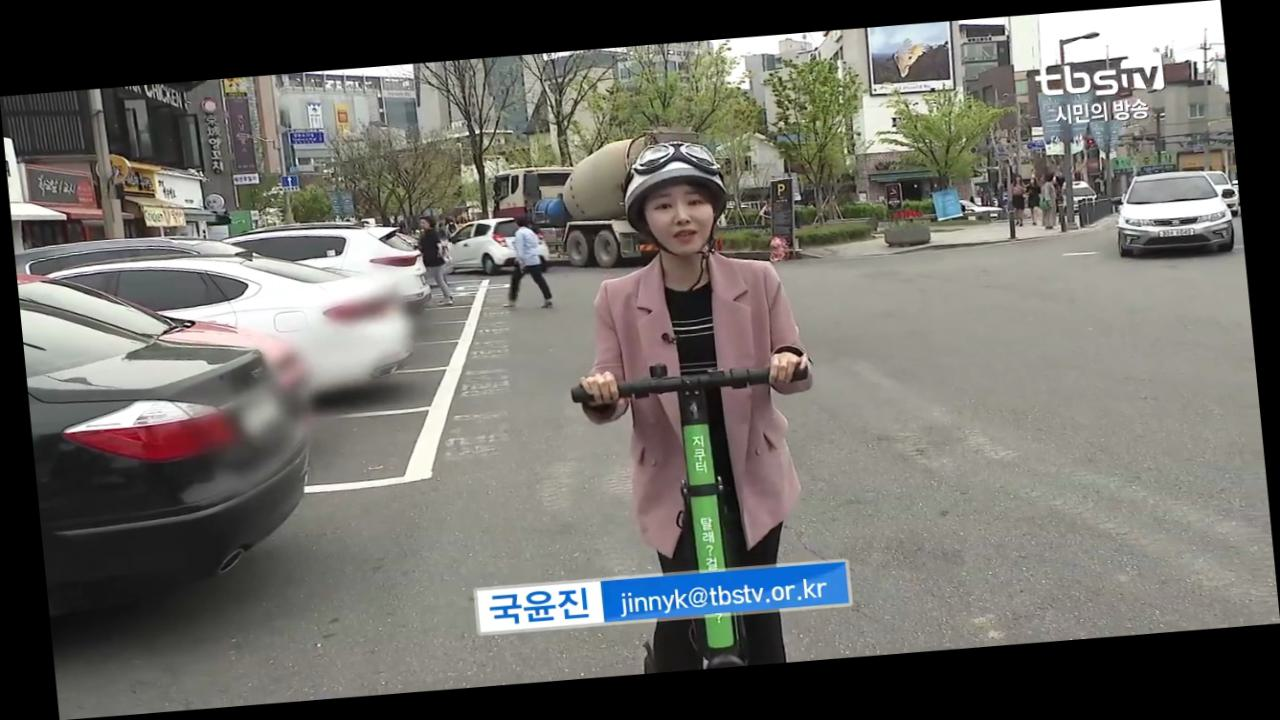helmet: (542, 130, 847, 678)
